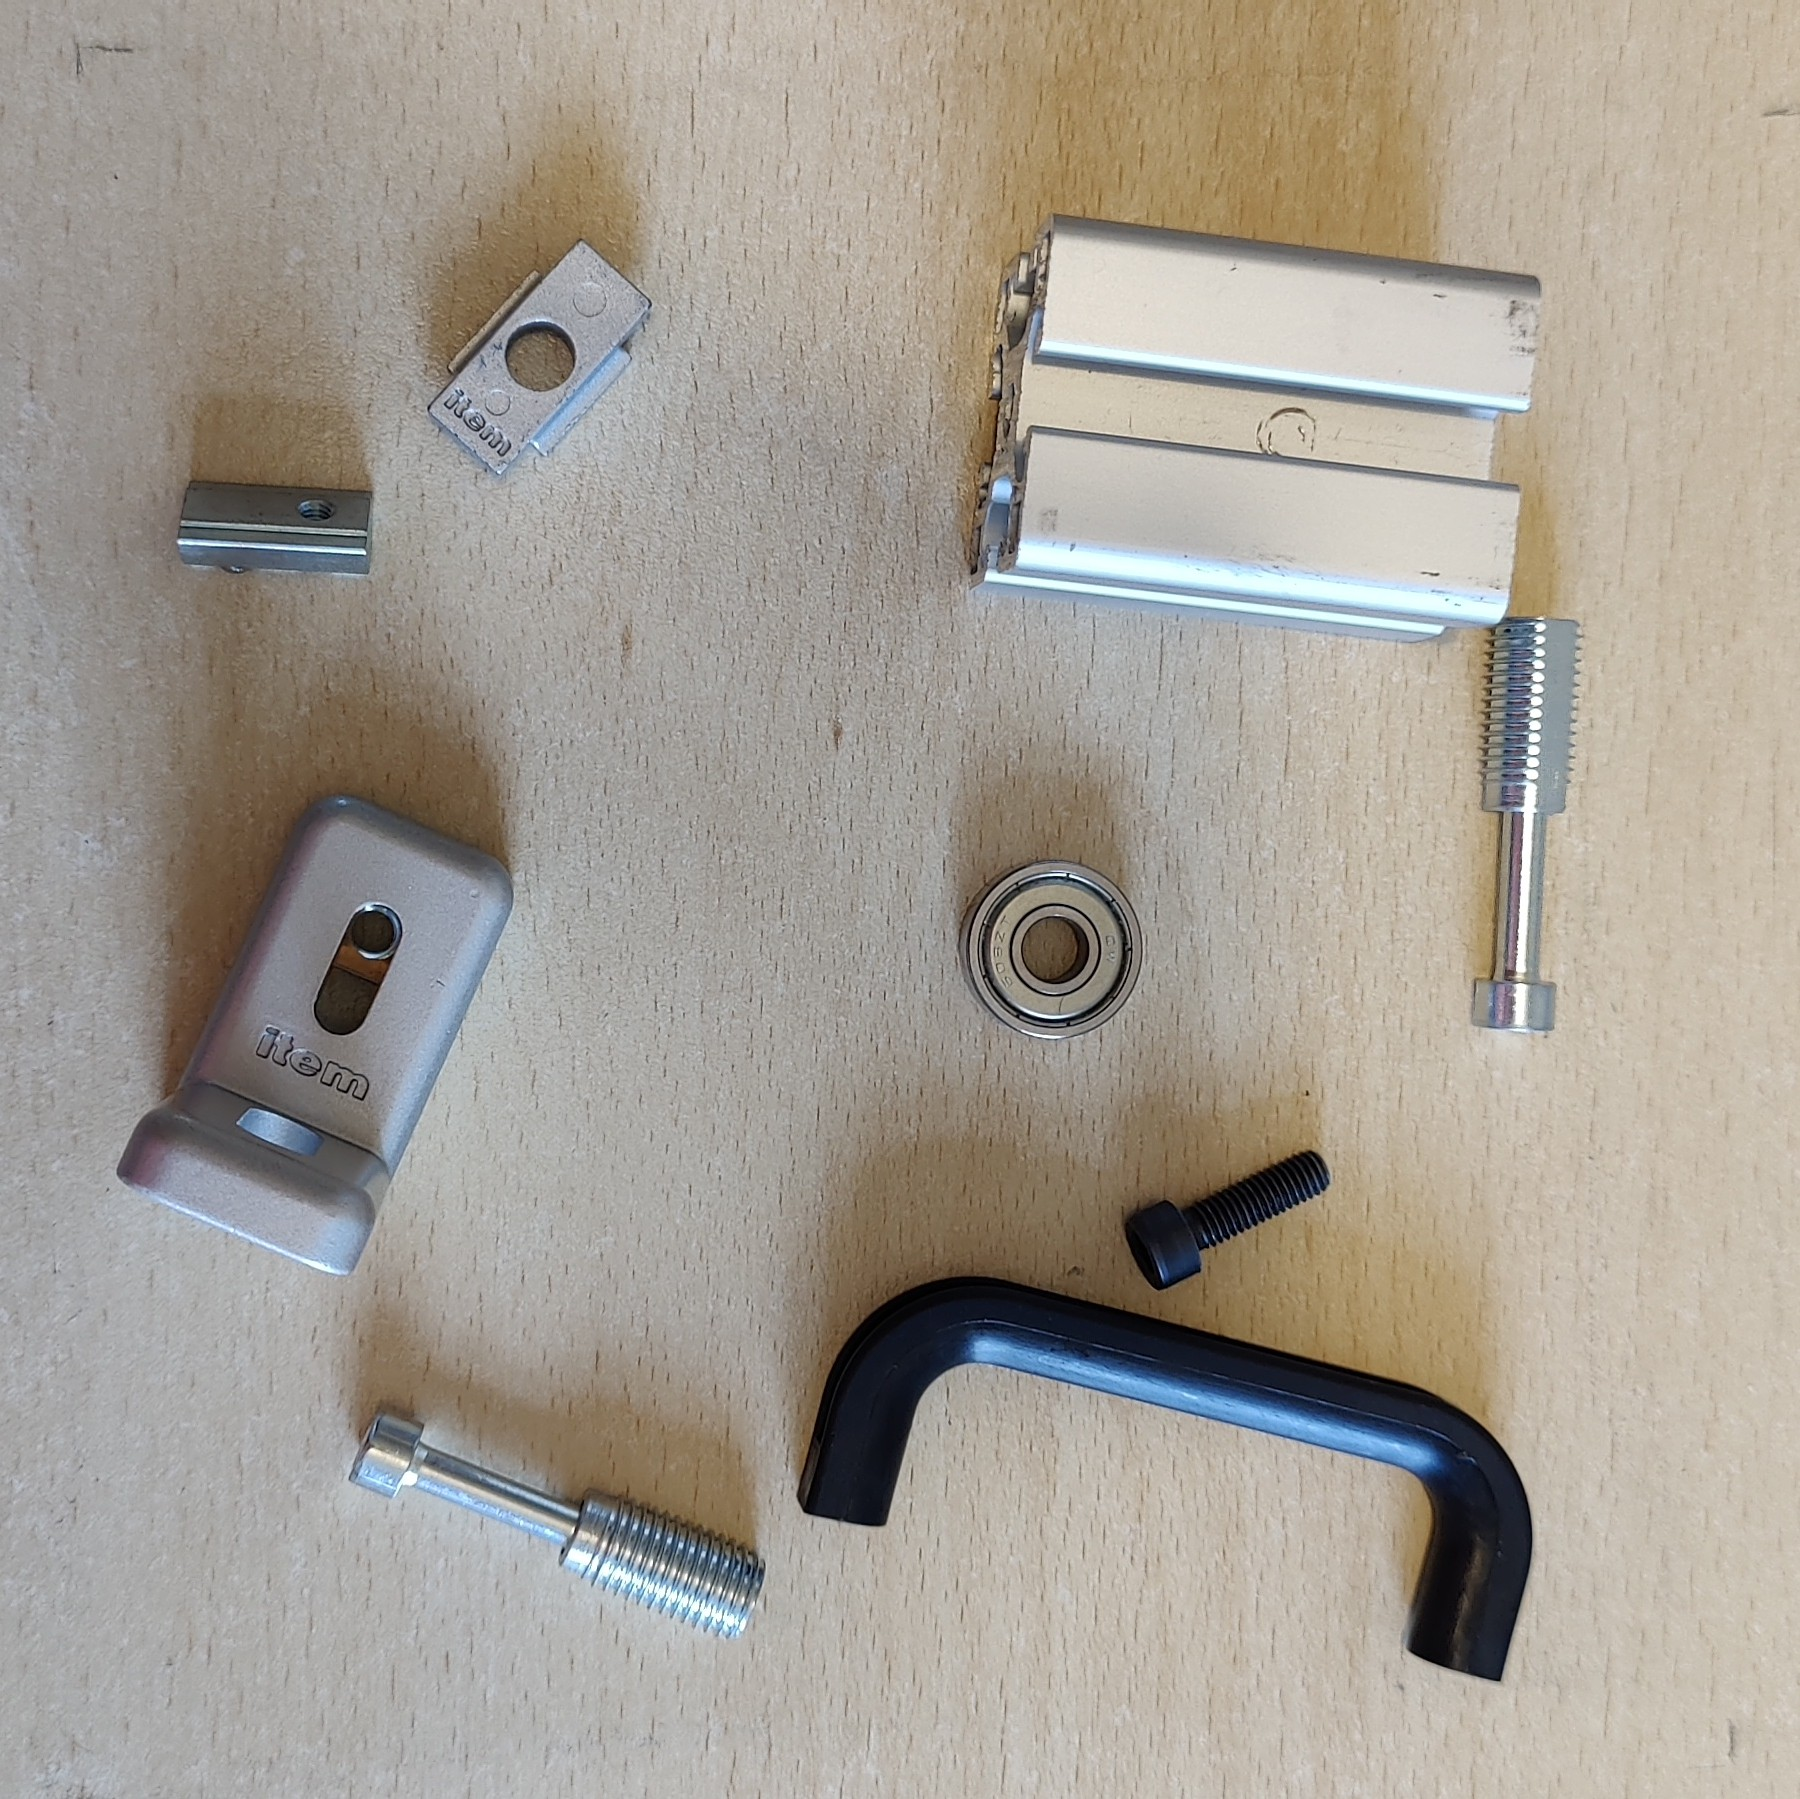Aluminium Extension: (962, 208, 1546, 646)
Ball Bearing: (955, 852, 1146, 1044)
Multiwinkel: (115, 791, 517, 1278)
Pull Handle: (792, 1269, 1537, 1687)
Shoulder Socket Head Cap Screw: (344, 1394, 769, 1644), (1466, 606, 1588, 1038)
Socket Head Cap Screw: (1122, 1143, 1332, 1293)
T Nut Square: (423, 232, 655, 484)
T Spring Nut: (171, 476, 379, 583)
